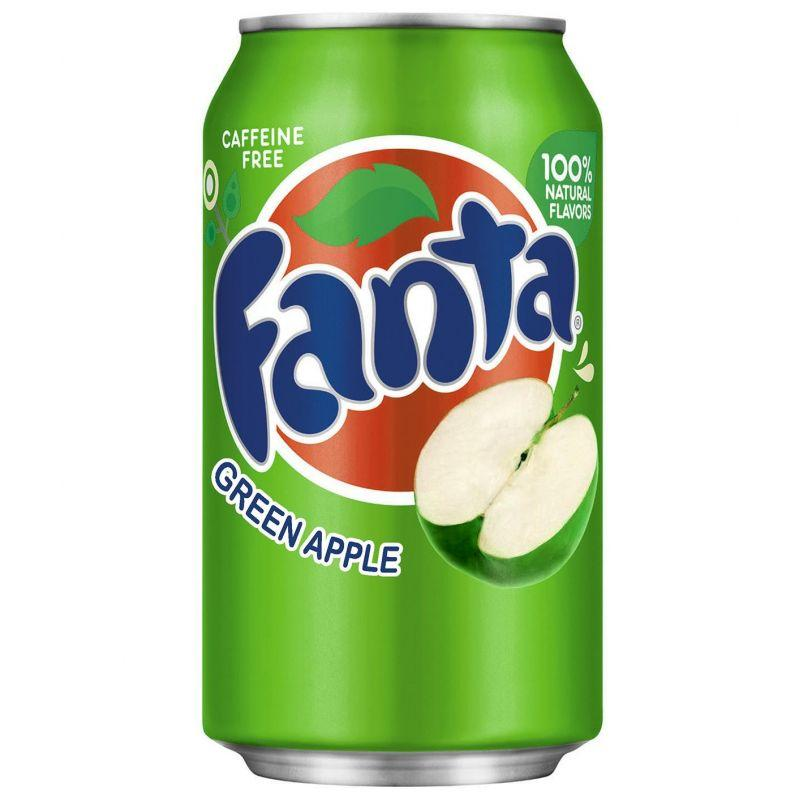metal: (203, 13, 602, 787)
